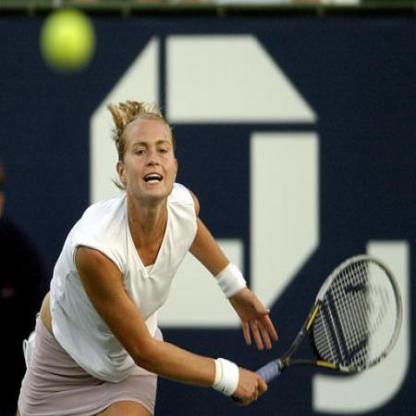face: (124, 115, 177, 207)
